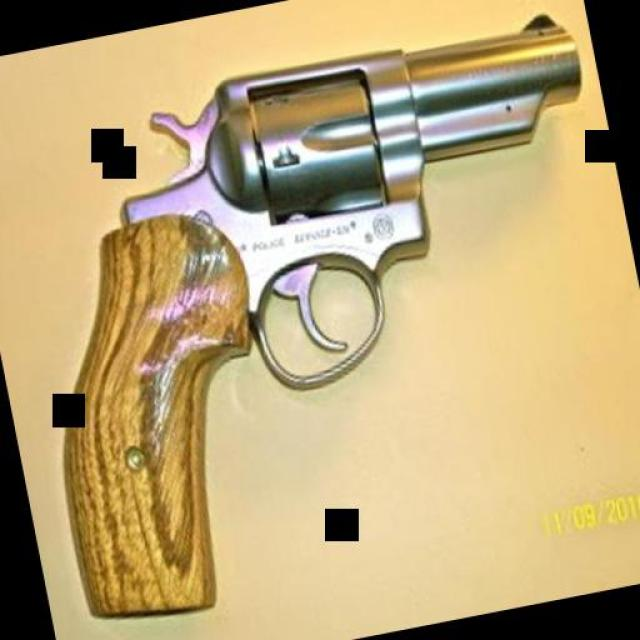gun: (0, 2, 640, 632)
